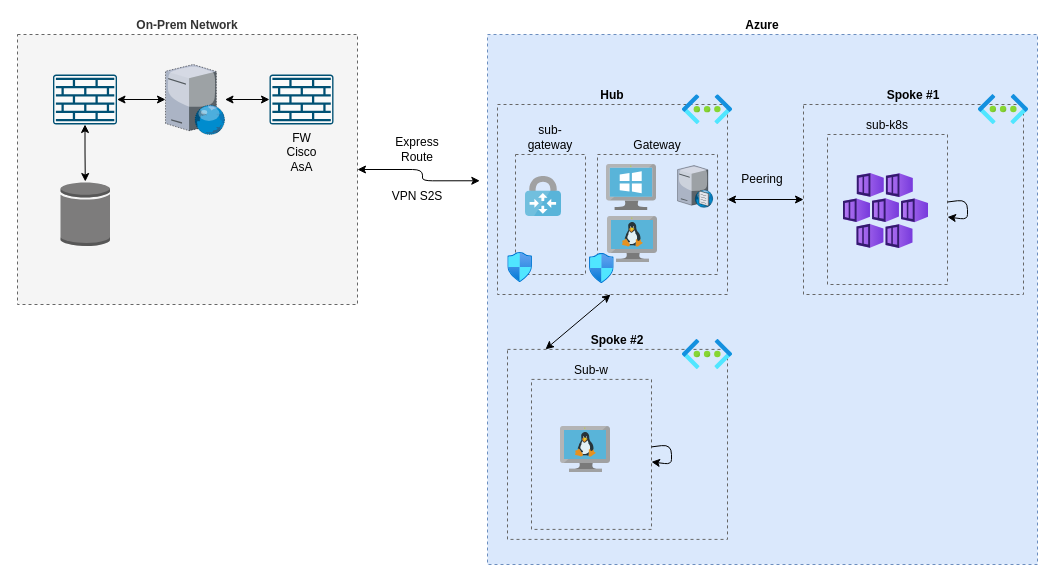
Some shapes in this 1055 by 582 pixel diagram are drawn without their labels. Each missing label, with the centre of its shape:
DNS: [695,185]
FW: [84,99]
Generic Database: [85,213]
Web Server: [194,99]
workloads: [585,449]
